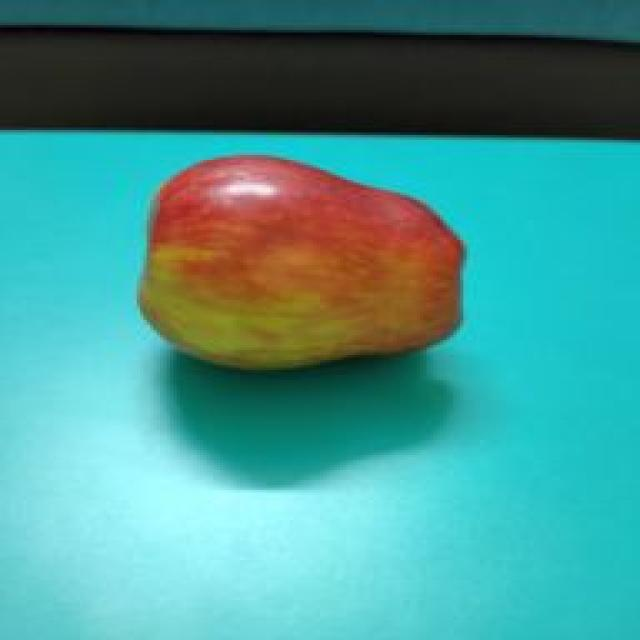Good_Apple: (137, 155, 467, 375)
